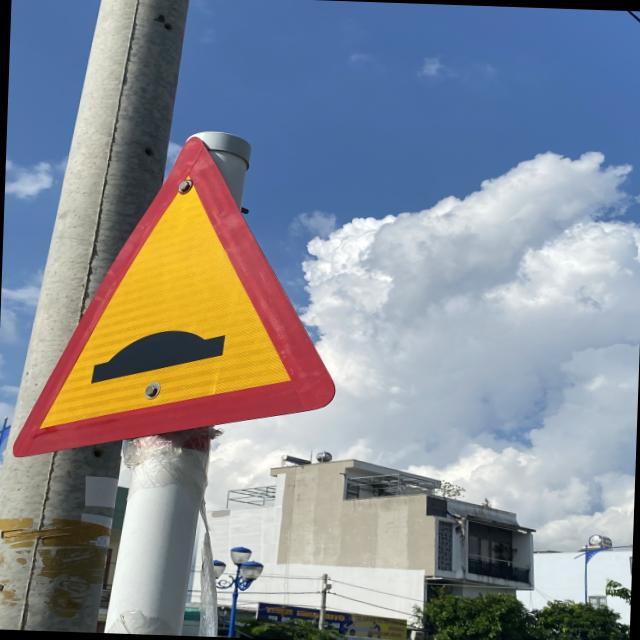Duong_Cong_Ben_Phai: (12, 128, 344, 472)
